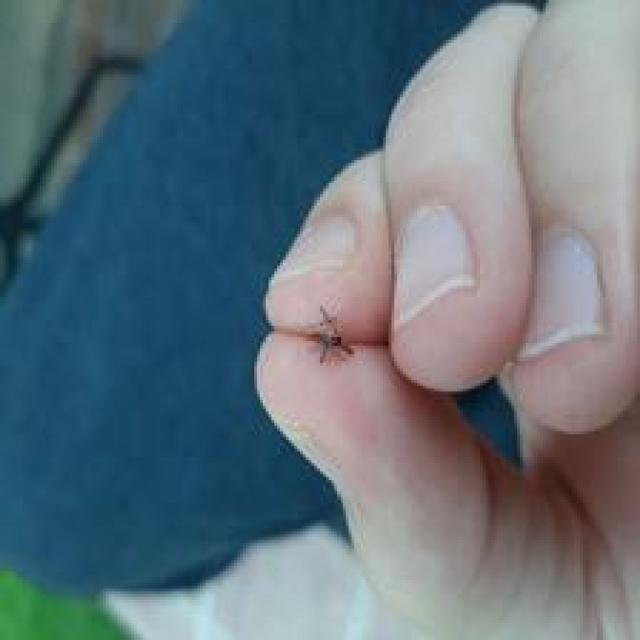Aedes albopictus: (304, 303, 356, 366)
